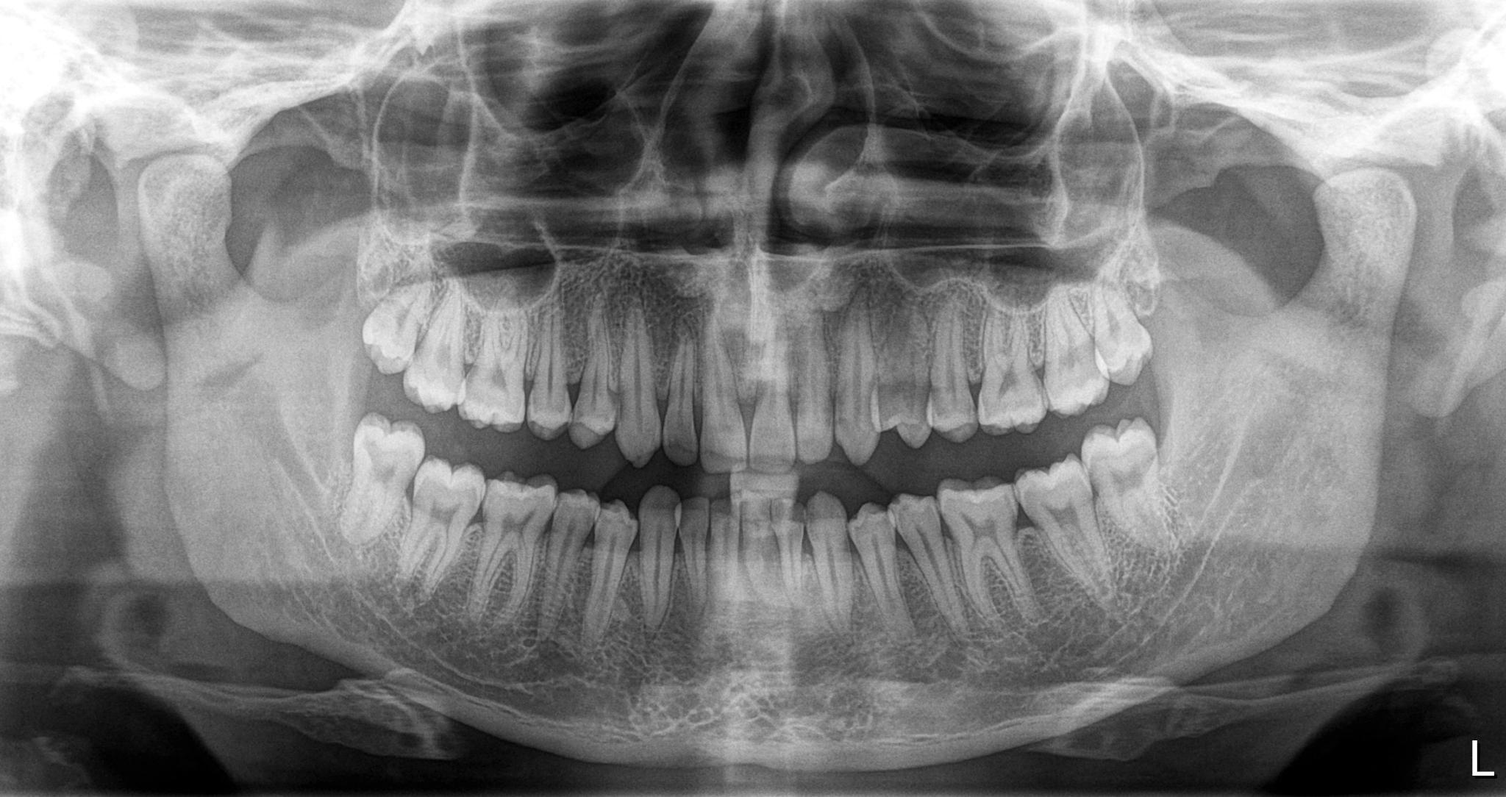Dental Caries: (995, 368, 1017, 403), (1059, 346, 1082, 378)
